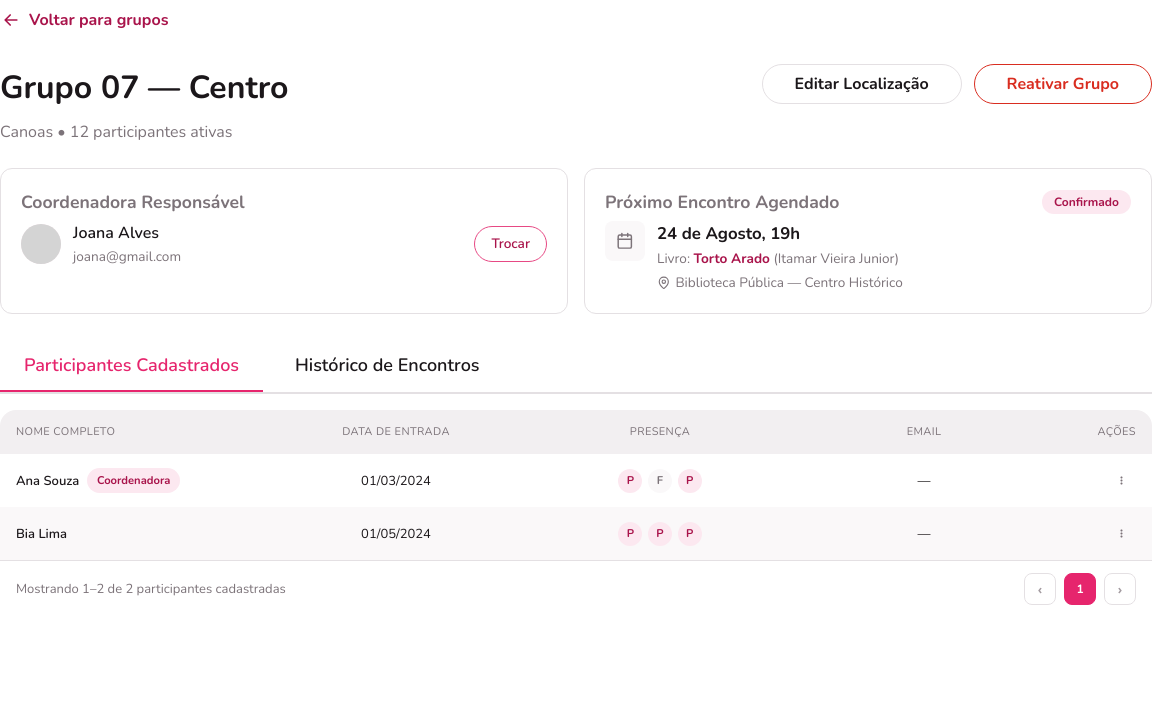
Test case: GroupDetails › reativa um grupo encerrado
Click the button "Reativar Grupo" at (1063, 84), box [974,64,1151,104]
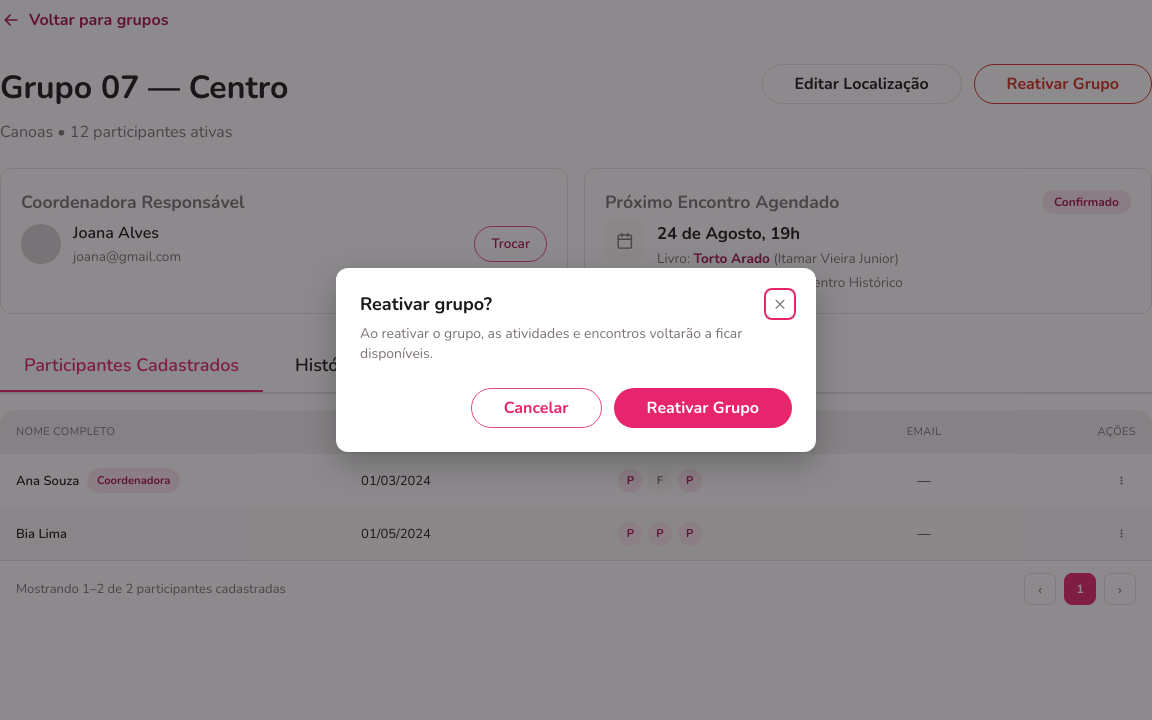
Click the button "Reativar Grupo" at (703, 408), box [614,388,792,428]
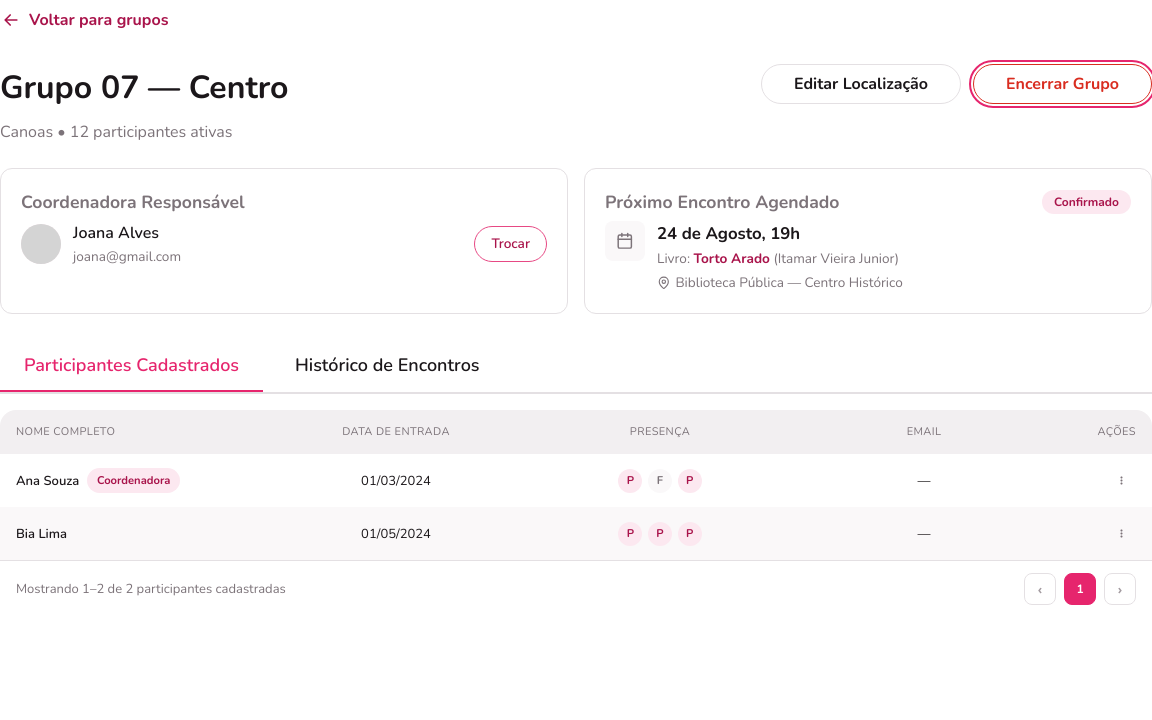
Expected: the button "Encerrar Grupo" is shown, [973,64,1151,104]
